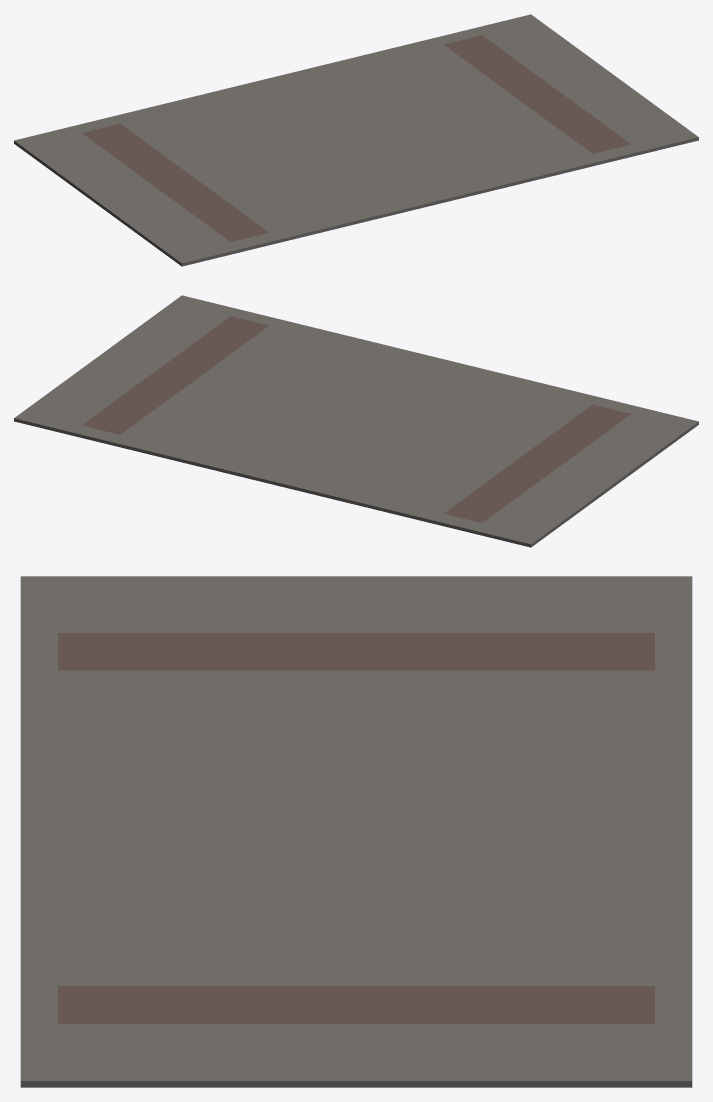
File: rug.glb
The picture shows the model from 3 angles, top to bottom: view 1: azimuth 30°, elevation 25°; view 2: azimuth 150°, elevation 25°; view 3: azimuth 270°, elevation 25°; orthographic projection. The views are drawn at different scales.
Parts seen in each view (by area): view 1: rug; view 2: rug; view 3: rug.
Boxes of the visible parts, x1=… form: rug: x1=14, y1=14, x2=698, y2=266; rug: x1=14, y1=295, x2=698, y2=547; rug: x1=20, y1=576, x2=692, y2=1087.
Bounding box in the file's own units: 1.6 × 0.01 × 0.9.
